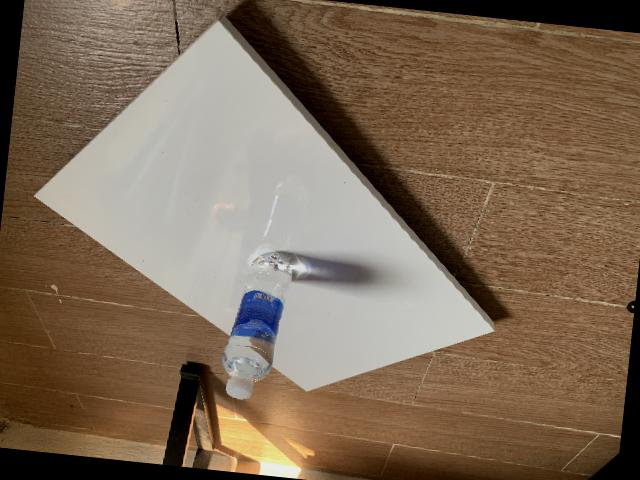aquafina: (220, 253, 292, 398)
